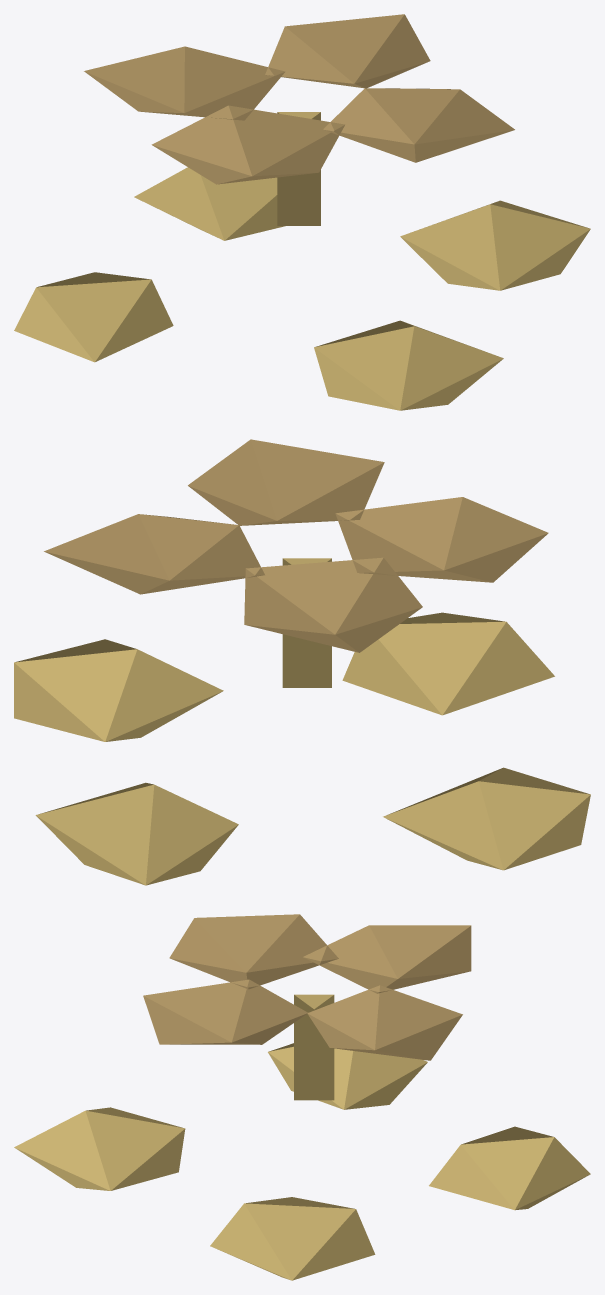
The model's file is cao.dixue@subadult__autumn.glb.
The picture shows the model from 3 angles, top to bottom: view 1: azimuth 30°, elevation 25°; view 2: azimuth 150°, elevation 25°; view 3: azimuth 270°, elevation 25°; orthographic projection. The views are drawn at different scales.
Parts seen in each view (by area): view 1: cao.dixue@subadult__autumn; view 2: cao.dixue@subadult__autumn; view 3: cao.dixue@subadult__autumn.
Part boxes in pixels (bbox=[...]): cao.dixue@subadult__autumn: bbox=[14, 14, 590, 410]; cao.dixue@subadult__autumn: bbox=[14, 439, 590, 885]; cao.dixue@subadult__autumn: bbox=[14, 914, 590, 1280].
Bounding box in the file's own units: 0.489 × 0.2218 × 0.4906.
